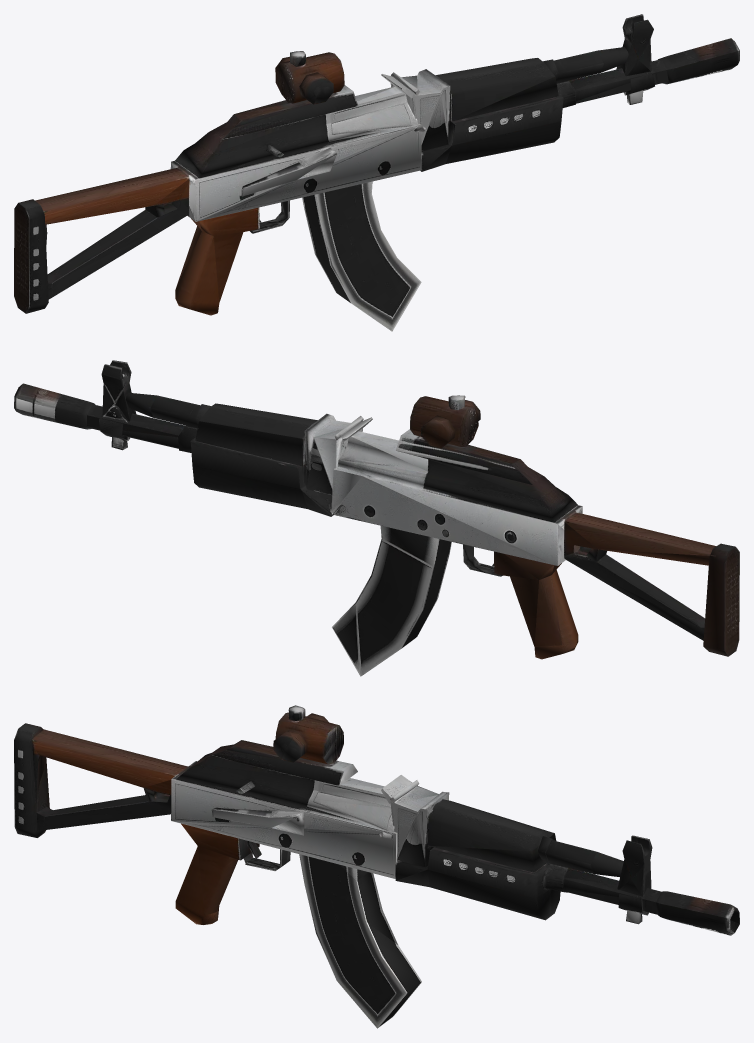
The model's file is ak-rifle-meshy-t2-web-v1.glb.
The picture shows the model from 3 angles, top to bottom: view 1: azimuth 30°, elevation 25°; view 2: azimuth 150°, elevation 25°; view 3: azimuth 330°, elevation 25°; orthographic projection.
Size of the model in its own units: 1 by 0.3946 by 0.0896.
Materials: 1 (1 with a texture image).
